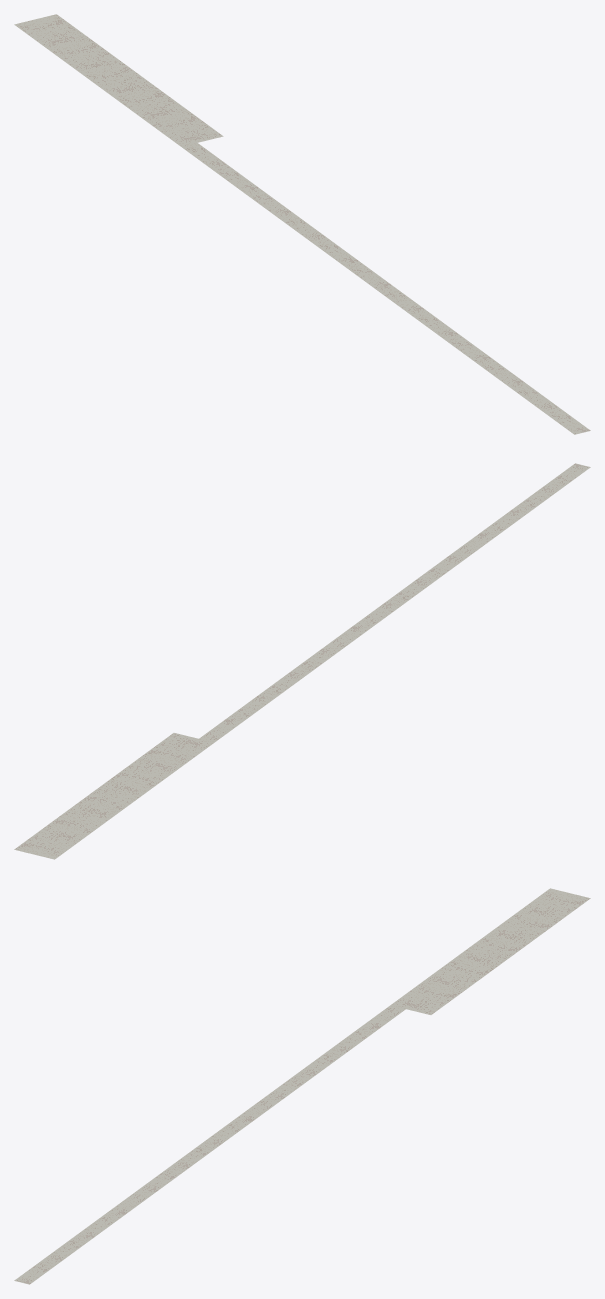
File: kd_stage_135c43_4_30_bounded_piece_17.glb
The picture shows the model from 3 angles, top to bottom: view 1: azimuth 30°, elevation 25°; view 2: azimuth 150°, elevation 25°; view 3: azimuth 330°, elevation 25°; orthographic projection. The views are drawn at different scales.
Visible parts, largest first — view 1: kd_stage_135c43_4_30_bounded_piece_17; view 2: kd_stage_135c43_4_30_bounded_piece_17; view 3: kd_stage_135c43_4_30_bounded_piece_17.
Boxes of the visible parts, box(x1,y1,x2,y2) form: kd_stage_135c43_4_30_bounded_piece_17: box(14, 14, 590, 434); kd_stage_135c43_4_30_bounded_piece_17: box(14, 463, 590, 859); kd_stage_135c43_4_30_bounded_piece_17: box(14, 888, 590, 1284).
Bounding box in the file's own units: 0.2435 × 2.38e-07 × 5.54.
1 material, 1 textured.
